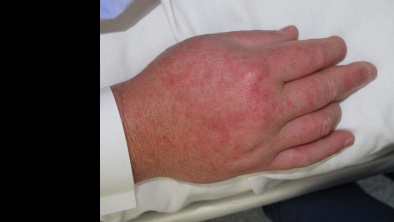SJS-TEN: (119, 22, 383, 189)
